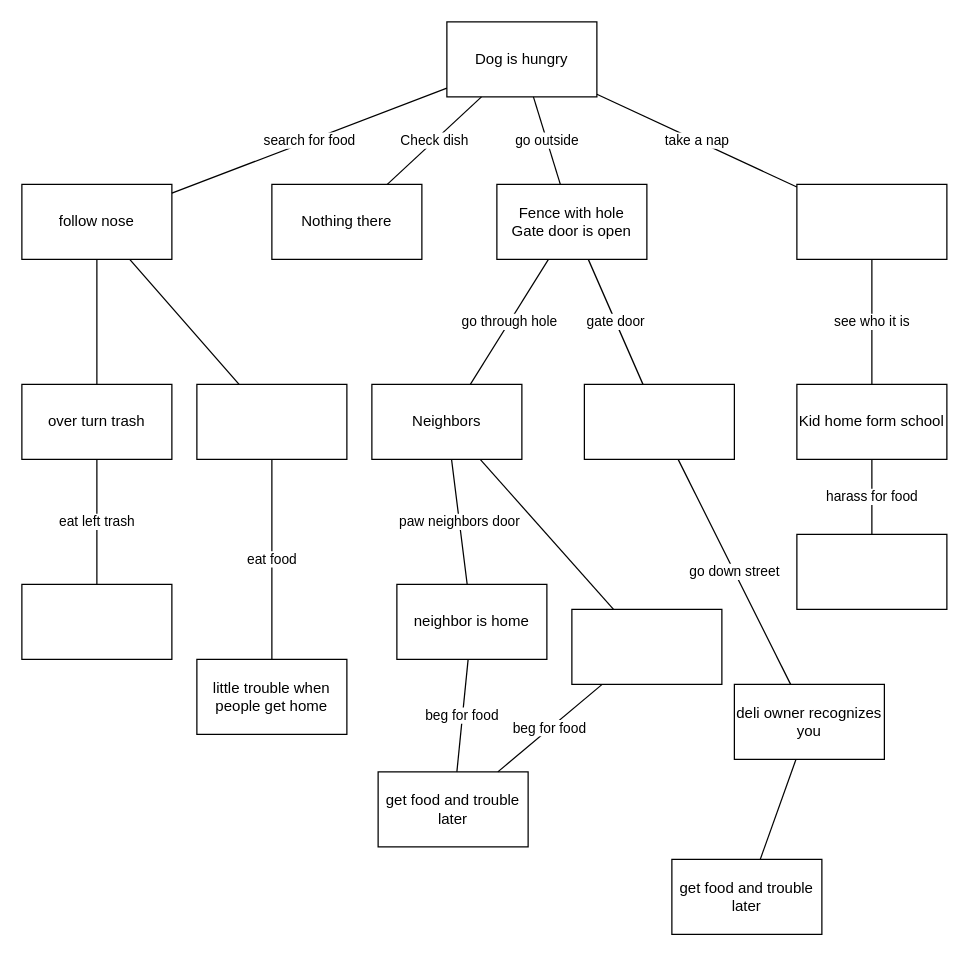
Some shapes in this 969 by 956 pixel diagram are drawn without their labels. The shapes that lost their labels are listed below. From the top down, each one's centre as x and y in pixels, then its label:
At (871,221): "Hear door open".
At (271,421): "left overs on counter".
At (658,421): "street".
At (871,571): "Get food".
At (96,621): "get sick trip to vet when people get home".
At (646,646): "neighbor catches you".
